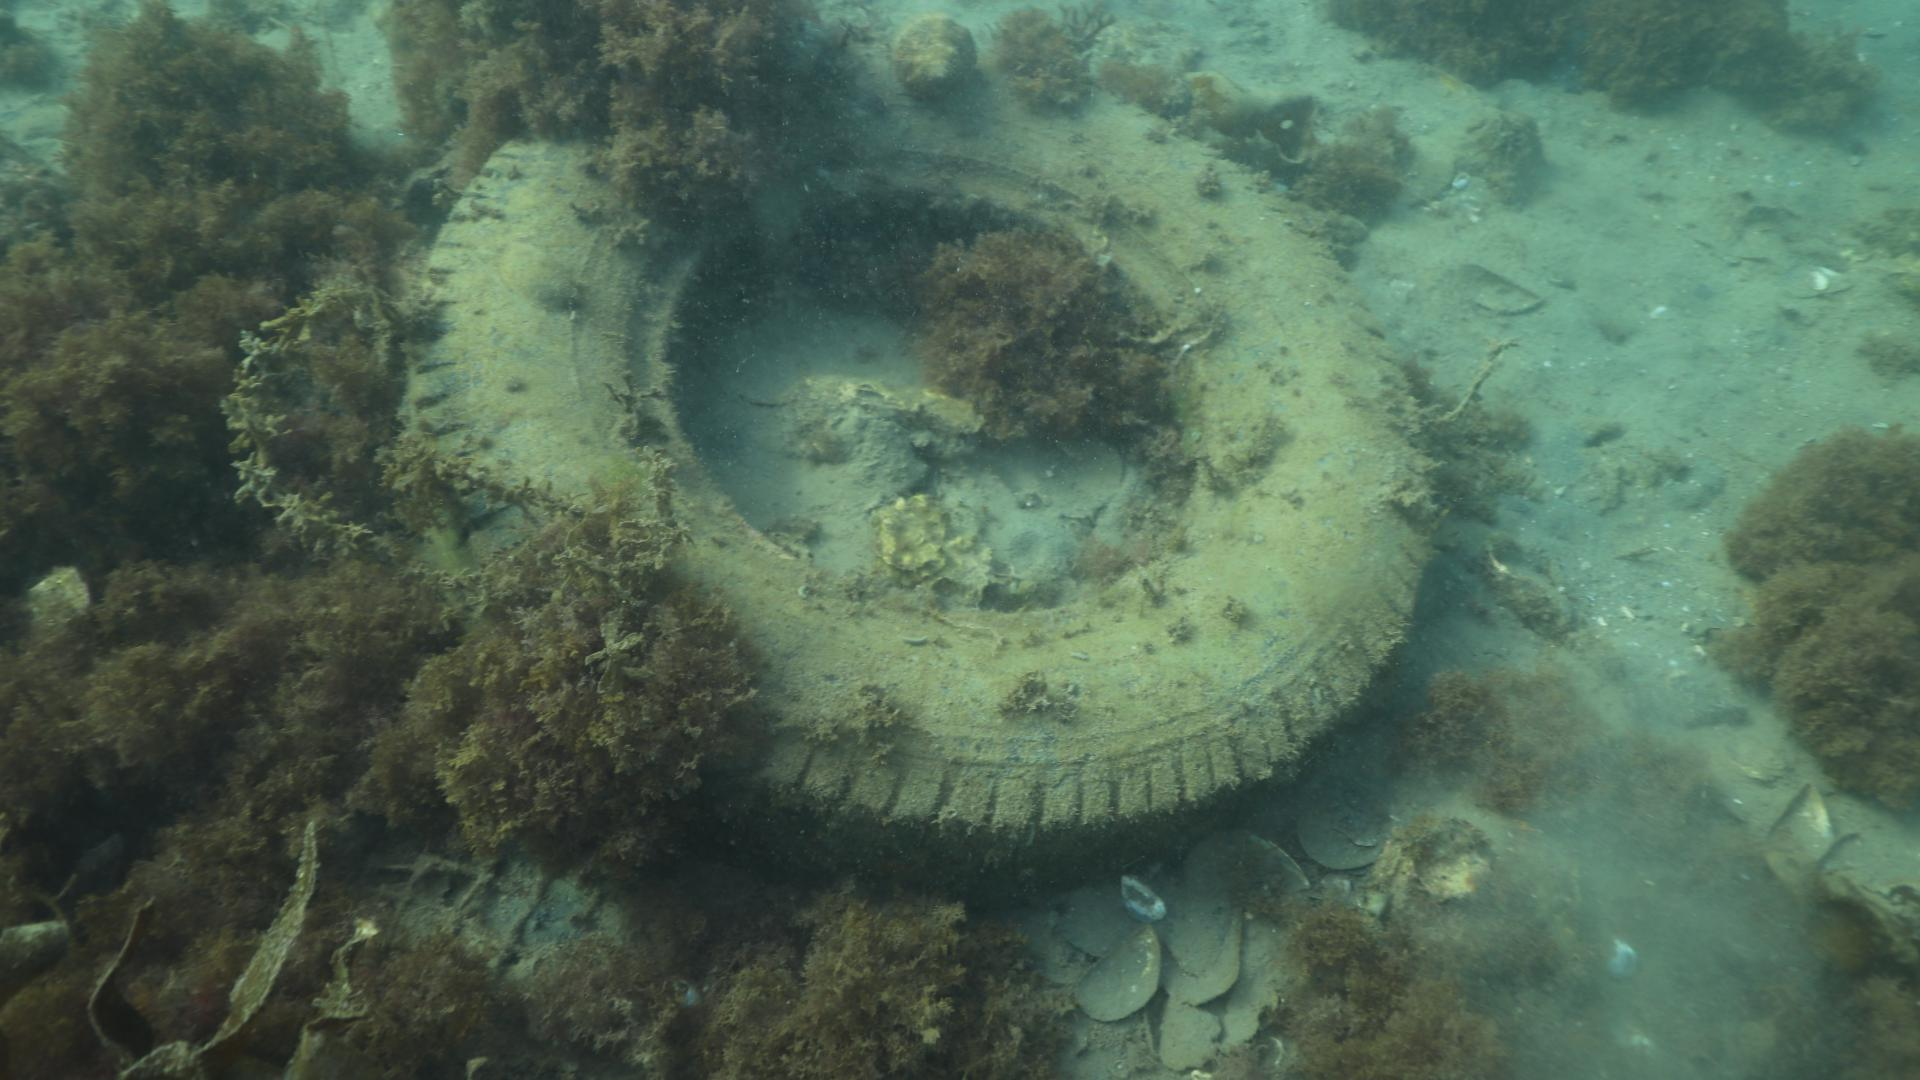tire: (396, 40, 1436, 902)
